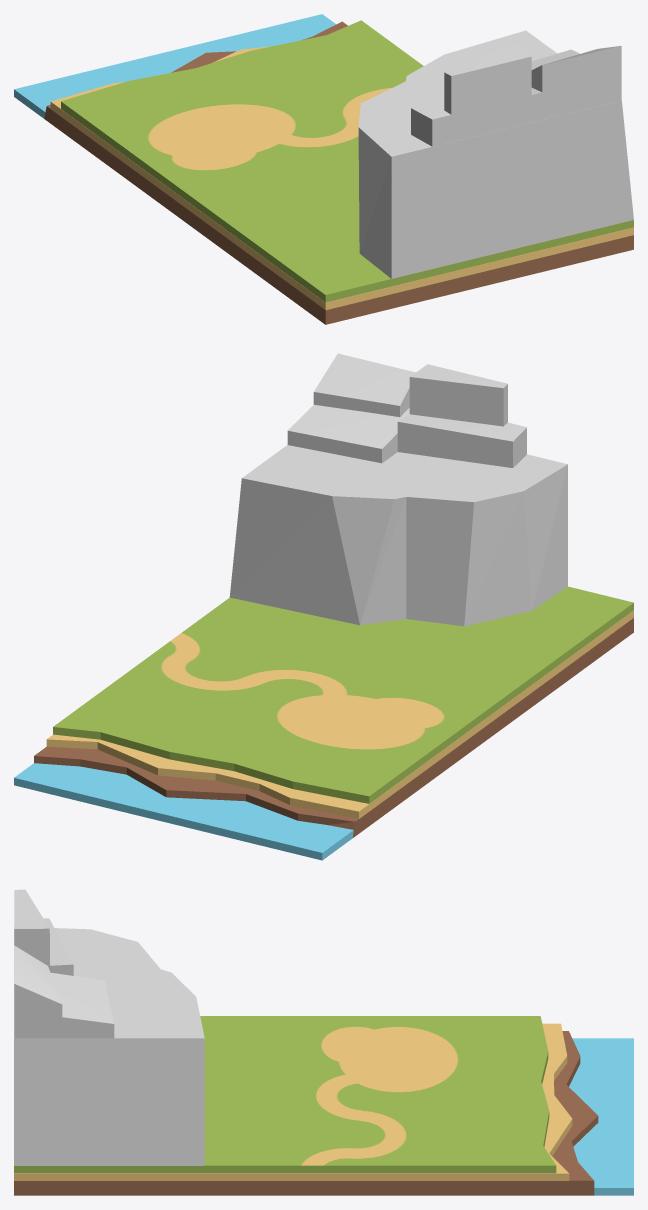
The model's file is land.FBX.
The picture shows the model from 3 angles, top to bottom: view 1: azimuth 30°, elevation 25°; view 2: azimuth 150°, elevation 25°; view 3: azimuth 270°, elevation 25°; orthographic projection.
Visible parts, largest first — view 1: Plane003, Line001; view 2: Plane003, Line001; view 3: Plane003, Line001.
Boxes of the visible parts, left/top/right/bottom form: Plane003: left=14, top=14, right=633, bottom=324; Line001: left=358, top=30, right=633, bottom=278; Plane003: left=14, top=586, right=633, bottom=860; Line001: left=229, top=353, right=567, bottom=626; Plane003: left=14, top=1016, right=633, bottom=1195; Line001: left=14, top=889, right=204, bottom=1165.
Bounding box in the file's own units: 120 × 81.49 × 211.
